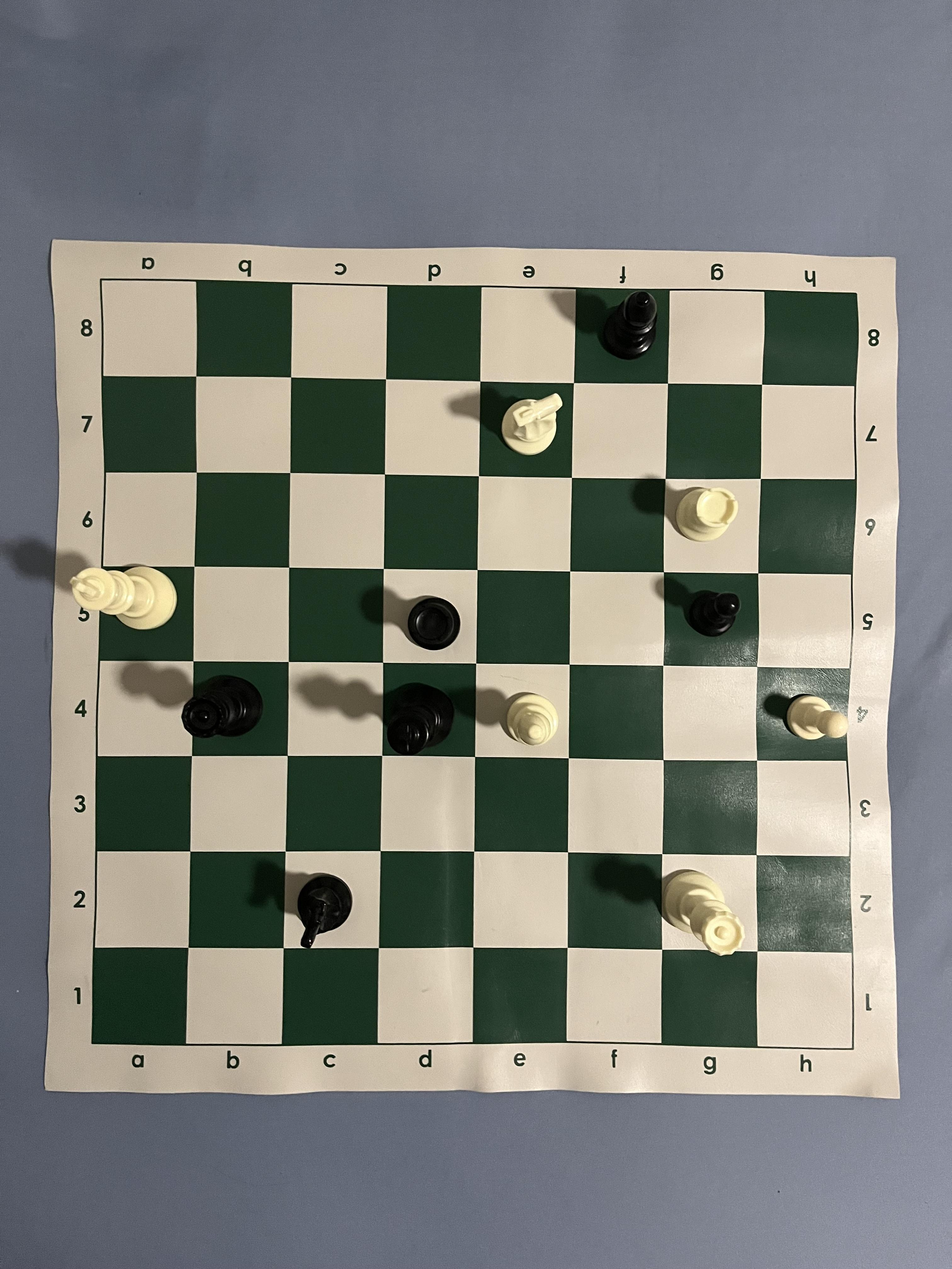black_bishop: (603, 290, 660, 361)
black_king: (384, 682, 457, 755)
black_knight: (296, 873, 353, 949)
black_pawn: (687, 589, 740, 637)
black_queen: (181, 676, 264, 739)
black_rook: (407, 596, 461, 651)
white_bishop: (506, 692, 559, 747)
white_king: (69, 564, 177, 631)
white_knight: (502, 392, 564, 457)
white_pawn: (785, 695, 850, 741)
white_queen: (661, 869, 747, 957)
white_rook: (674, 486, 738, 542)
